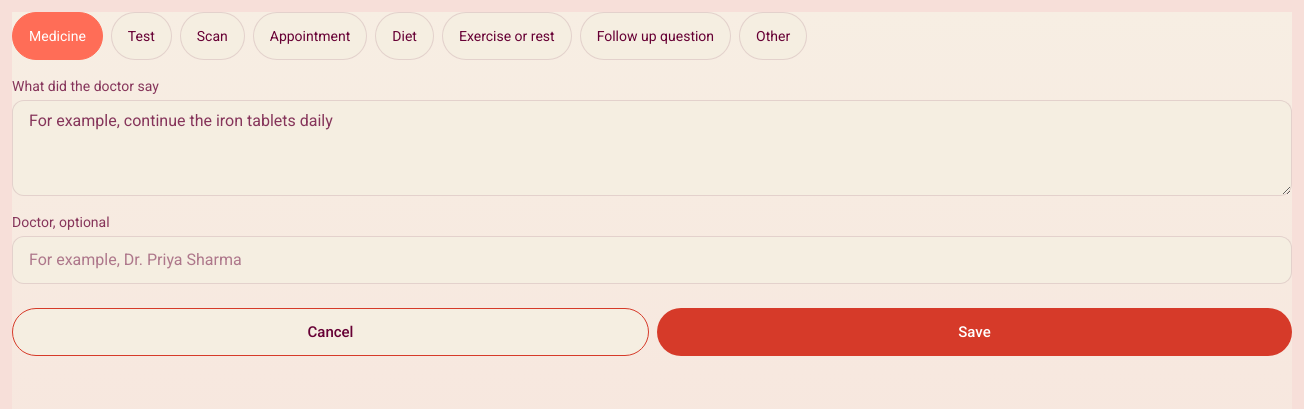
Test: AdviceForm -- add mode › shows a field error instead of throwing
Type "Hello" into the text box labelled "What did the doctor say" at {"x": 652, "y": 148}, box [12,100,1292,196]
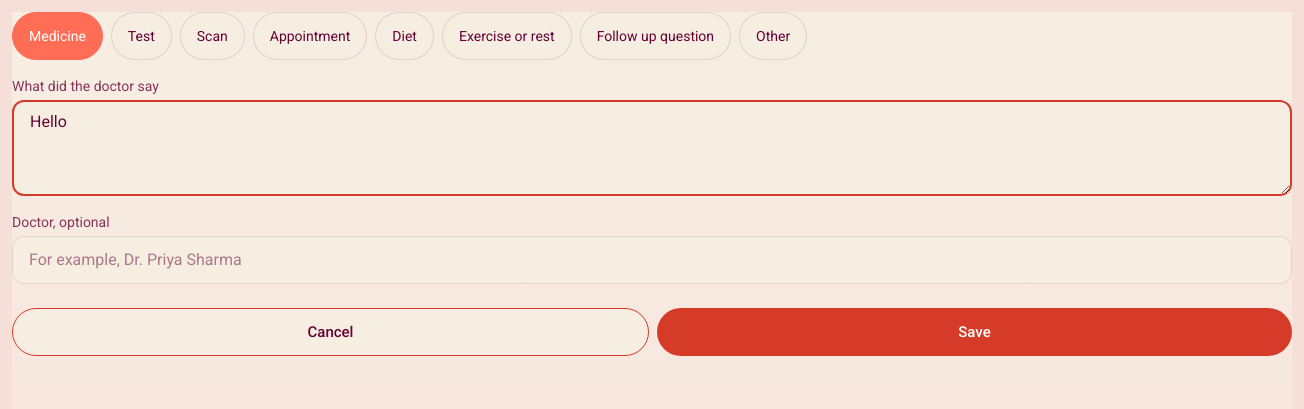
Click the button "Save" at {"x": 974, "y": 332}, box [657,308,1292,356]
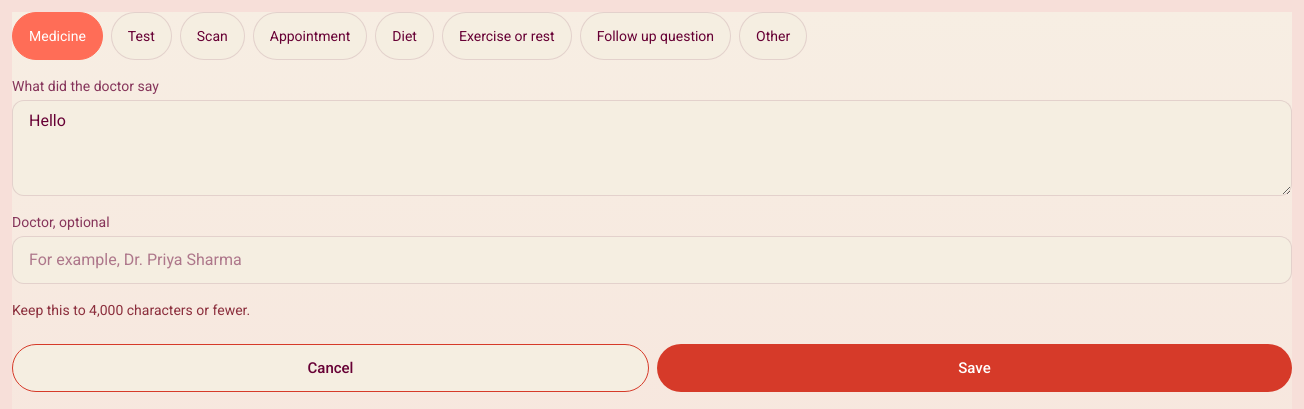
Now the message reads "Keep this to 4,000 characters or fewer.", box [12,302,250,318]
